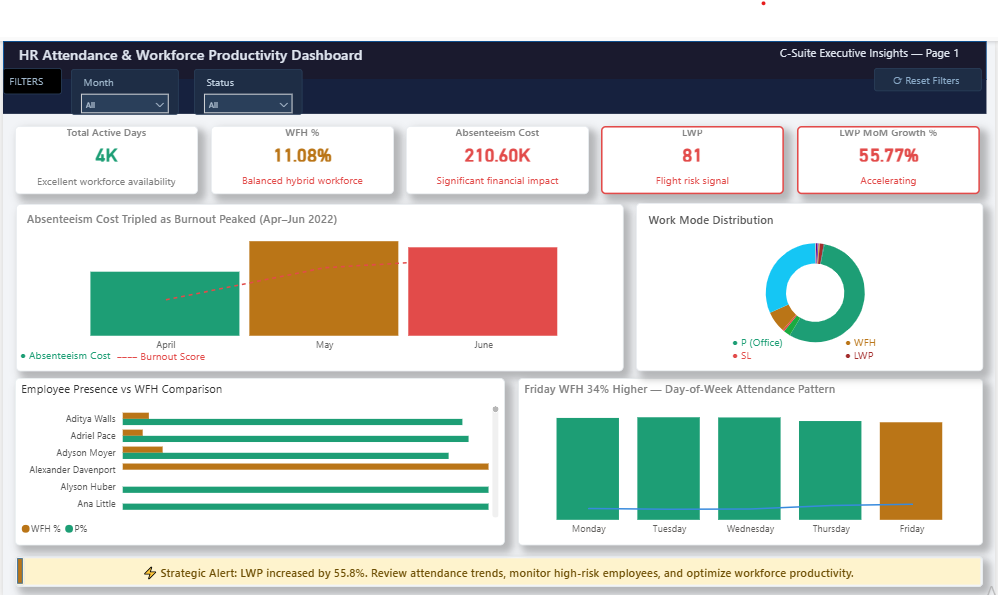

The dashboard page shown, as its layout file describes it:
{"tool":"powerbi","page":{"name":"Executive Overview","canvas":[1280,720],"ordinal":0},"visuals":[{"type":"shape","box":[0,0,1269.3,50.1],"z":0},{"type":"textbox","box":[16,0,600,50],"z":1000},{"type":"textbox","box":[997.8,0,253.2,44],"z":2000},{"type":"shape","box":[0,49.5,1269,45.4],"z":3000},{"type":"textbox","box":[0,34.4,75.7,34.4],"z":4000},{"type":"slicer","fields":{"Values":["Calendar.Month"]},"box":[88.1,35.8,139,59.2],"z":5000},{"type":"slicer","fields":{"Values":["Main Attendance.Status"]},"box":[246.4,35.8,140.4,59.2],"z":6000},{"type":"actionButton","box":[1124.5,35,139,30],"z":7000},{"type":"cardVisual","fields":{"Data":["All Measures.Total Active Days"]},"box":[16,110,236,88],"z":8000},{"type":"cardVisual","fields":{"Data":["All Measures.WFH %"]},"box":[268,110,236,88],"z":9000},{"type":"cardVisual","fields":{"Data":["All Measures.Absenteeism Cost"]},"box":[520,110,236,88],"z":10000},{"type":"cardVisual","fields":{"Data":["All Measures.LWP Days"]},"box":[772,110,236,88],"z":11000},{"type":"cardVisual","fields":{"Data":["All Measures.LWP MoM Growth %"]},"box":[1024,110,236,88],"z":12000},{"type":"group","id":"g1","title":"Group 1","box":[16.7,210,784,216],"z":13000},{"type":"lineClusteredColumnComboChart","title":"Absenteeism Cost Tripled as Burnout Peaked (Apr–Jun 2022)","fields":{"Category":["Calendar.Month"],"Y":["All Measures.Absenteeism Cost"],"Y2":["All Measures.Burnout Score Chart"]},"box":[16.7,210,784,216],"z":13000,"group":"g1"},{"type":"donutChart","title":"Work Mode Distribution","fields":{"Category":["Main Attendance.Status"],"Y":["Main Attendance.Status Count"]},"box":[816.3,209.5,447.6,216.6],"z":14000,"group":"g2"},{"type":"clusteredBarChart","title":"Employee Presence vs WFH Comparison","fields":{"Category":["Main Attendance.Name"],"Y":["All Measures.WFH %","All Measures.Presence %"]},"box":[16.1,434.4,632,216.3],"z":14000},{"type":"shape","box":[15.7,665,1248.6,40],"z":14500,"group":"g4"},{"type":"lineClusteredColumnComboChart","title":"Friday WFH 34% Higher — Day-of-Week Attendance Pattern","fields":{"Category":["Calendar.DayName"],"Y":["All Measures.Presence %"],"Y2":["All Measures.WFH %"]},"box":[664,435,600,216],"z":15000},{"type":"textbox","box":[934.5,374.2,220.2,46.5],"z":15500,"group":"g2"},{"type":"group","id":"g2","title":"Group 3","box":[816.3,209.5,447.6,216.6],"z":15502,"group":"g3"},{"type":"group","id":"g3","title":"Group 2","box":[816.3,209.5,447.6,216.6],"z":16000},{"type":"textbox","box":[16.7,391.2,135.1,34.8],"z":17000,"group":"g1"},{"type":"textbox","box":[141.8,391.2,150.1,34.8],"z":17500,"group":"g1"},{"type":"shape","box":[16,665,12.8,38.5],"z":20001,"group":"g4"},{"type":"group","id":"g4","title":"Group 4","box":[15.7,665,1248.6,40],"z":20002},{"type":"cardVisual","fields":{"Data":["All Measures.Executives Insight"]},"box":[15.7,657.8,1247.2,45.7],"z":20502}]}

Visuals, with their boxes on the page's 1280x720 design canvas (x1, y1, x2, y2). These are canvas units, not pixel positions in the 998x595 screenshot, which may show the page scaled, cropped or inside an application window:
shape: 0 0 1269 50
textbox: 16 0 616 50
textbox: 998 0 1251 44
shape: 0 50 1269 95
textbox: 0 34 76 69
slicer - Calendar.Month: 88 36 227 95
slicer - Main Attendance.Status: 246 36 387 95
actionButton: 1124 35 1264 65
cardVisual - All Measures.Total Active Days: 16 110 252 198
cardVisual - All Measures.WFH %: 268 110 504 198
cardVisual - All Measures.Absenteeism Cost: 520 110 756 198
cardVisual - All Measures.LWP Days: 772 110 1008 198
cardVisual - All Measures.LWP MoM Growth %: 1024 110 1260 198
"Group 1" group: 17 210 801 426
"Absenteeism Cost Tripled as Burnout Peaked (Apr–Jun 2022)" lineClusteredColumnComboChart: 17 210 801 426
"Work Mode Distribution" donutChart: 816 210 1264 426
"Employee Presence vs WFH Comparison" clusteredBarChart: 16 434 648 651
shape: 16 665 1264 705
"Friday WFH 34% Higher — Day-of-Week Attendance Pattern" lineClusteredColumnComboChart: 664 435 1264 651
textbox: 934 374 1155 421
"Group 3" group: 816 210 1264 426
"Group 2" group: 816 210 1264 426
textbox: 17 391 152 426
textbox: 142 391 292 426
shape: 16 665 29 704
"Group 4" group: 16 665 1264 705
cardVisual - All Measures.Executives Insight: 16 658 1263 704
